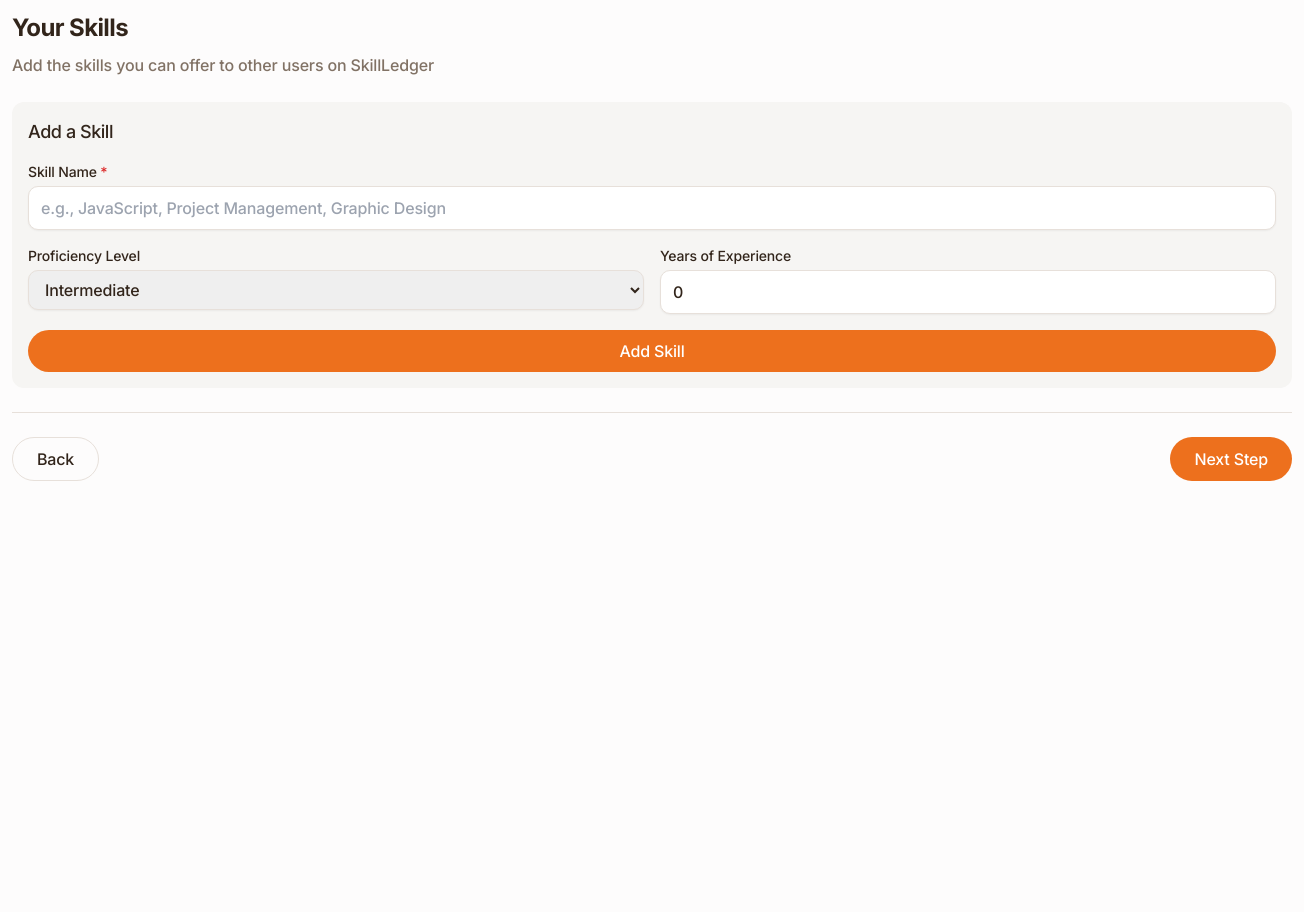
Scenario: Step2SkillSelection › allows setting proficiency level and years of experience
Type "Python" into the field labelled "Skill Name *" at (652, 208), box [28,186,1276,230]
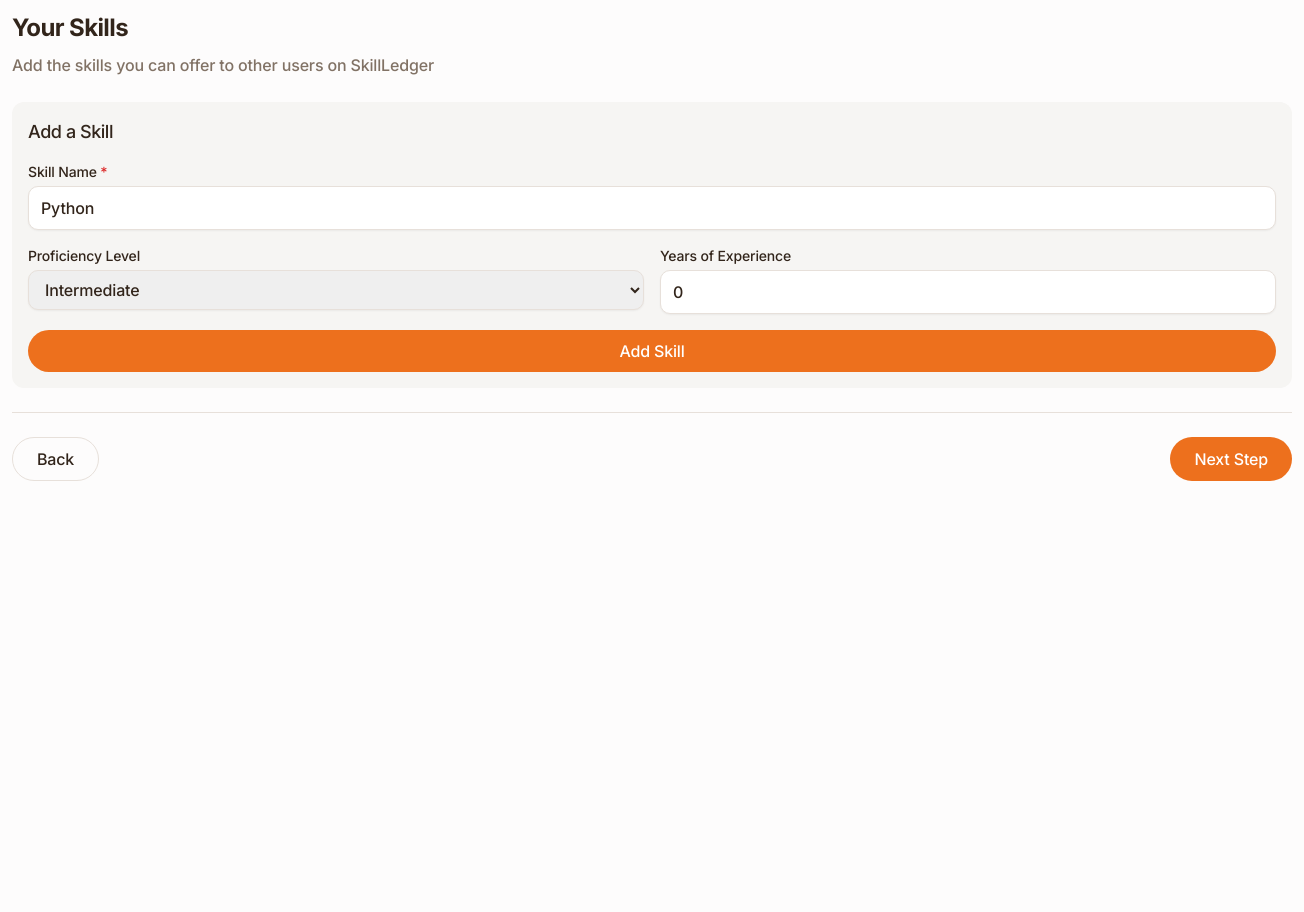
Select "Expert" in the dropdown labelled "Proficiency Level" at (336, 290), box [28,270,644,310]
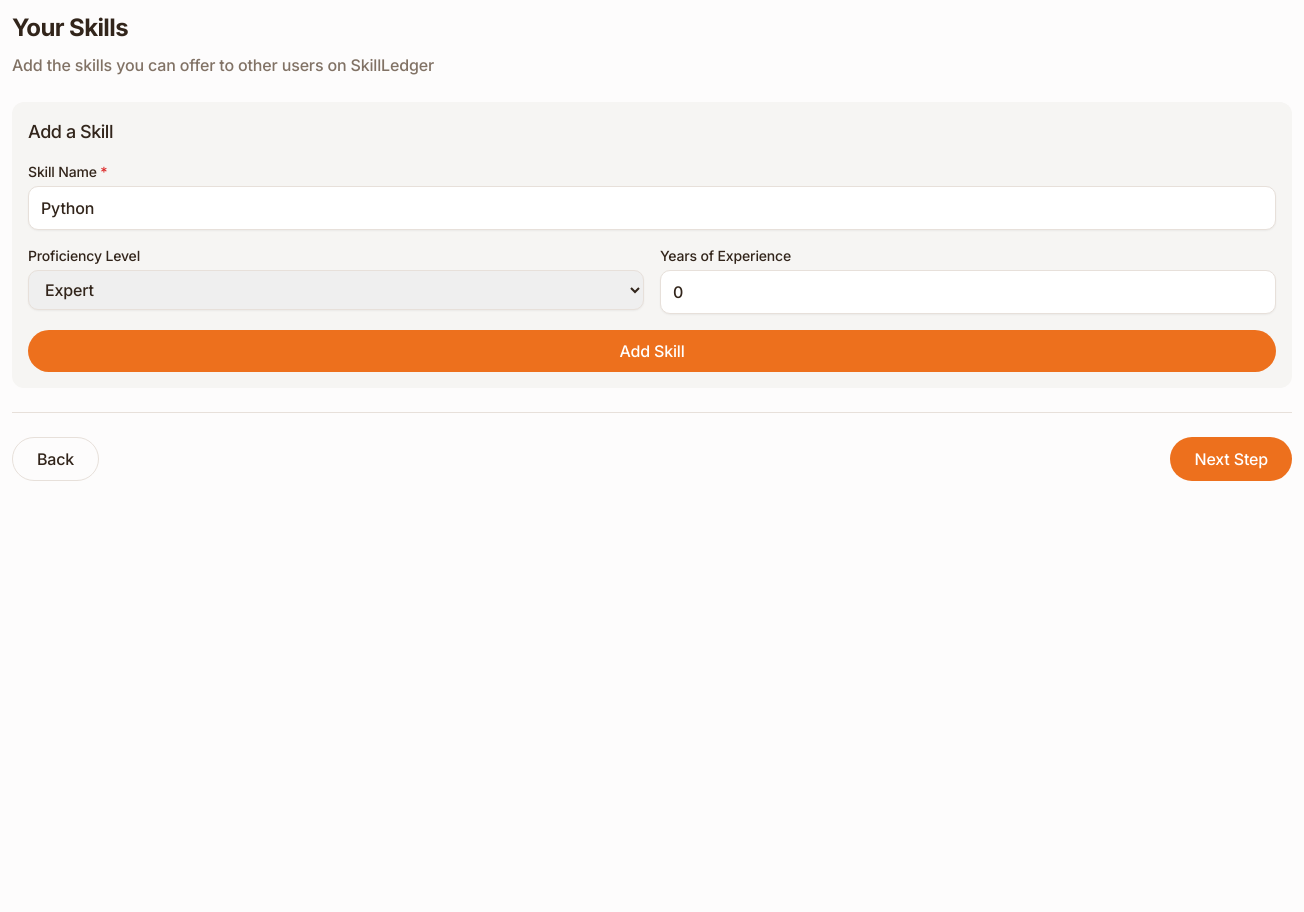
Replace the text in the number field labelled "Years of Experience" with "5" at (968, 292), box [660,270,1276,314]
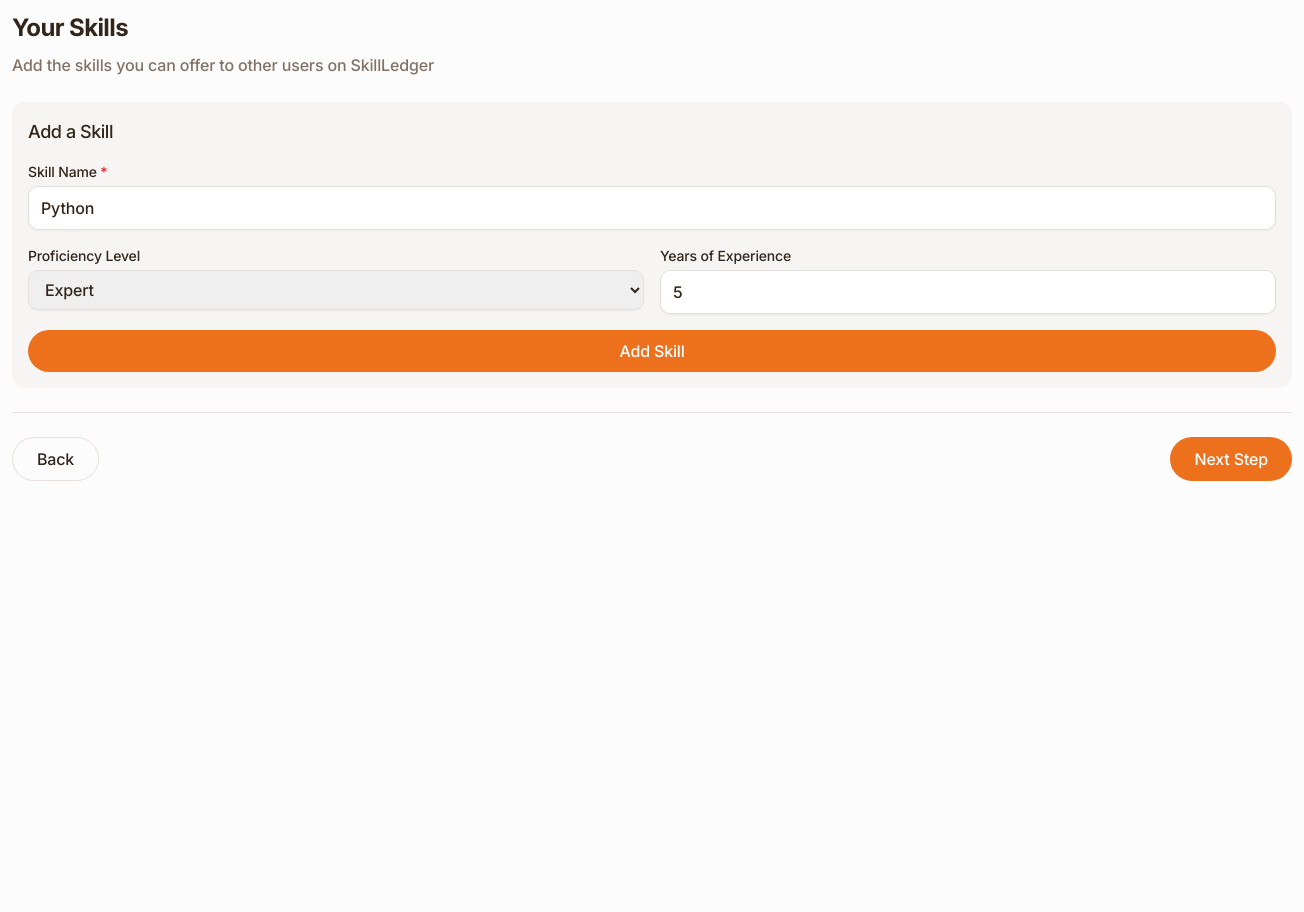
Click the button "Add Skill" at (652, 351), box [28,330,1276,372]
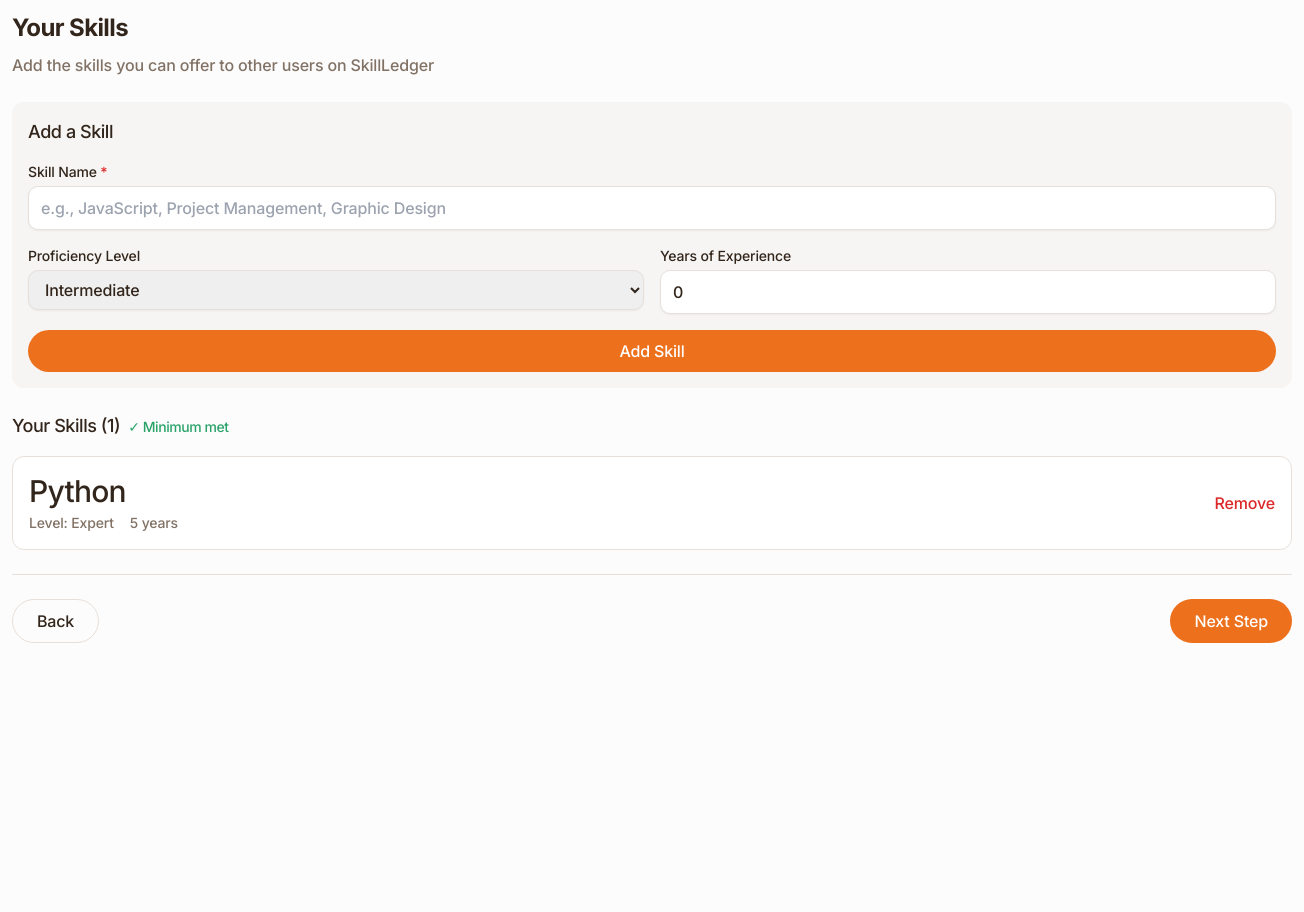
Expected: the heading "Python" is shown, [29,473,126,509]
Expected: the text "5 years" is shown, [130,513,178,533]
